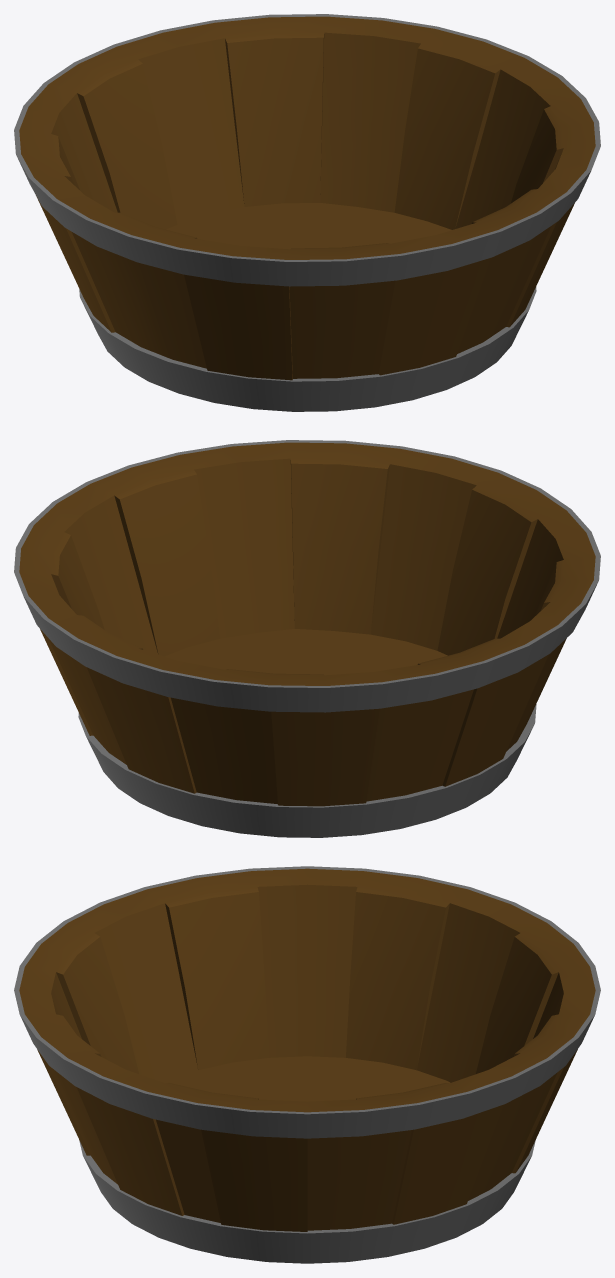
The model's file is basin.fbx.
3 renders of one model, top to bottom at view 1: azimuth 30°, elevation 25°; view 2: azimuth 150°, elevation 25°; view 3: azimuth 270°, elevation 25°, orthographic.
Visible parts, largest first — view 1: Basin; view 2: Basin; view 3: Basin.
Part boxes in pixels (x1,y1,x2,y2): Basin: (14,14,600,411); Basin: (14,440,600,837); Basin: (14,866,600,1263).
Bounding box in the file's own units: 89.97 × 89.97 × 31.2.
